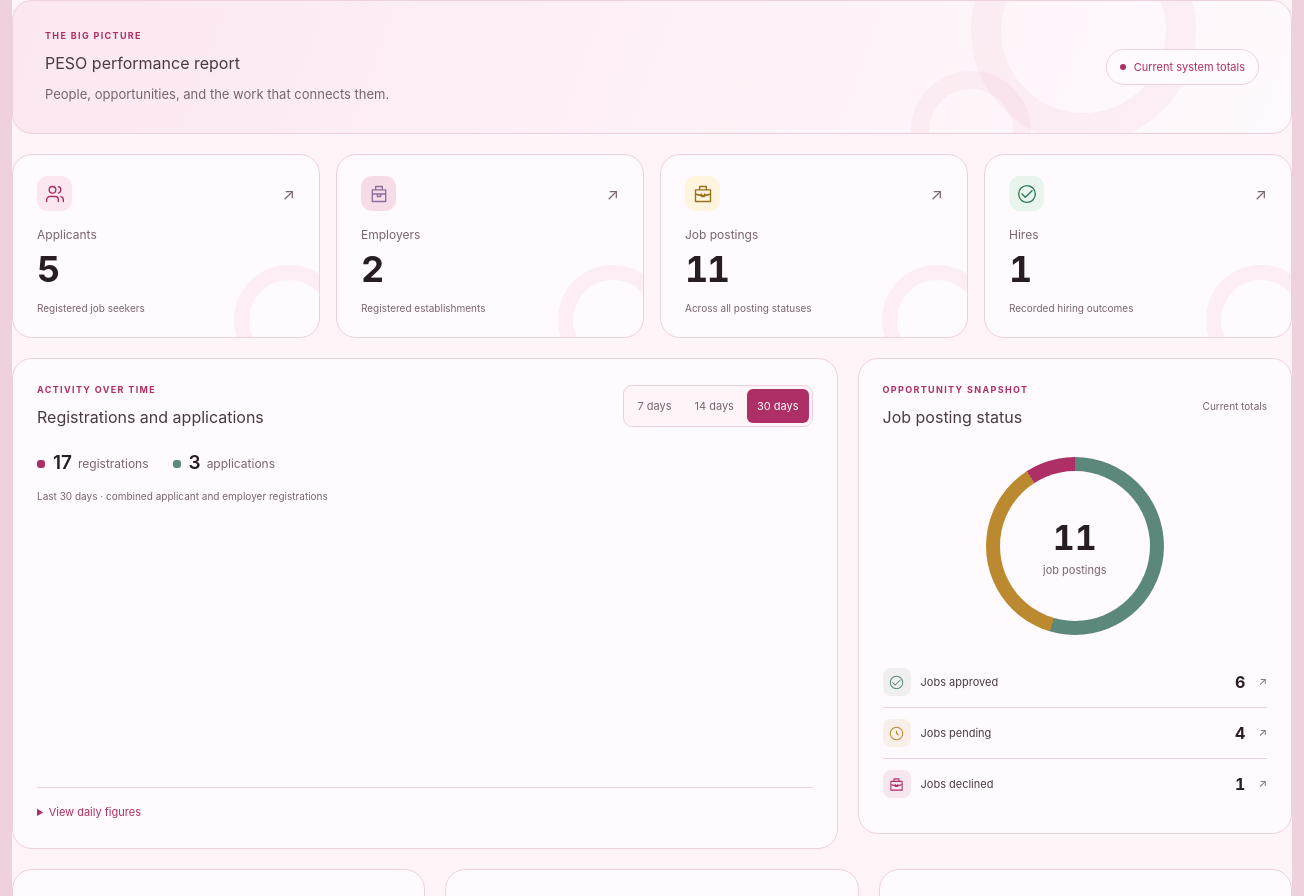
Test: AllDashboard › filters calendar periods and joins registration and application series by date
The image size is (1304, 896).
Click the button "7 days".
click(654, 406)  # box [627,389,682,423]
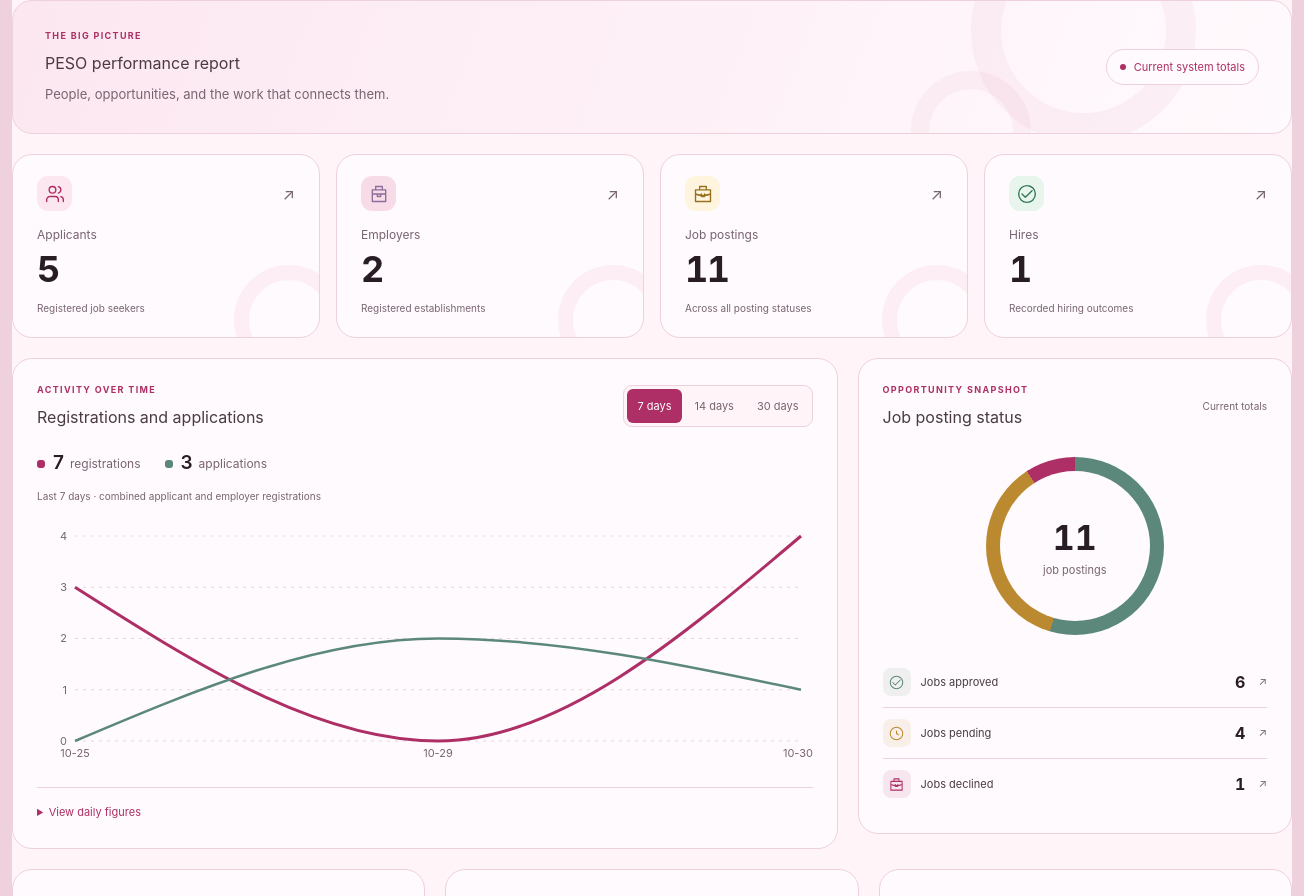
Expected: the picture named "Last 7 days: 7 registrations and 3 applications" is shown, [37,520,812,775]
